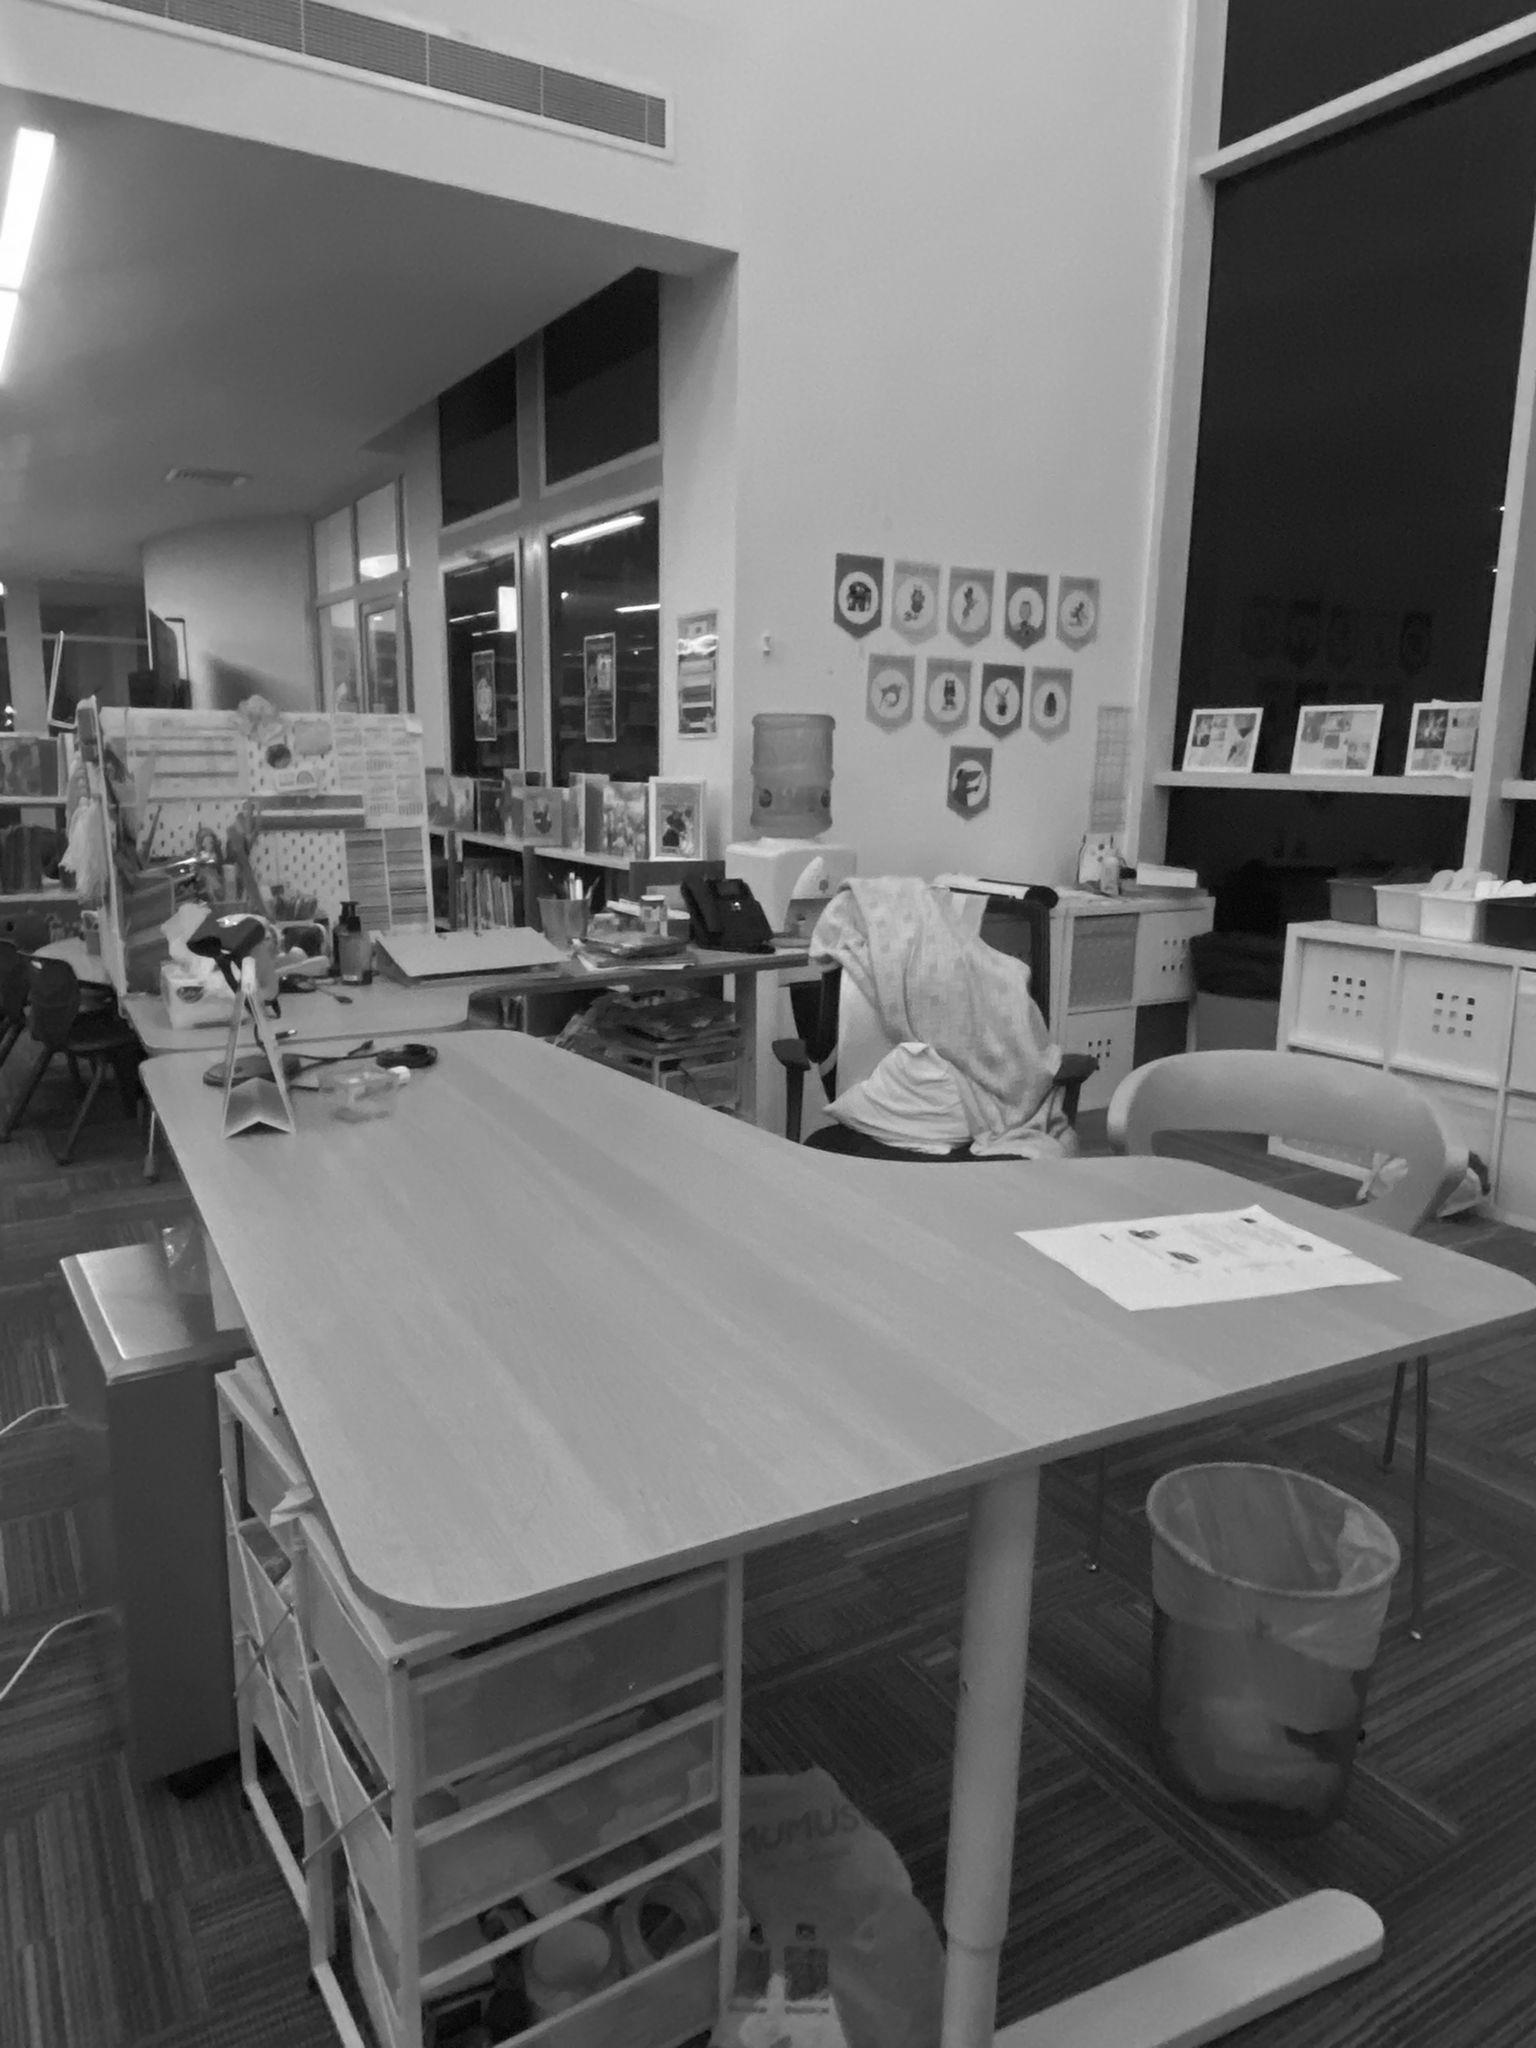Chair: (1108, 1049, 1468, 1234)
Table: (144, 985, 1535, 2047)
